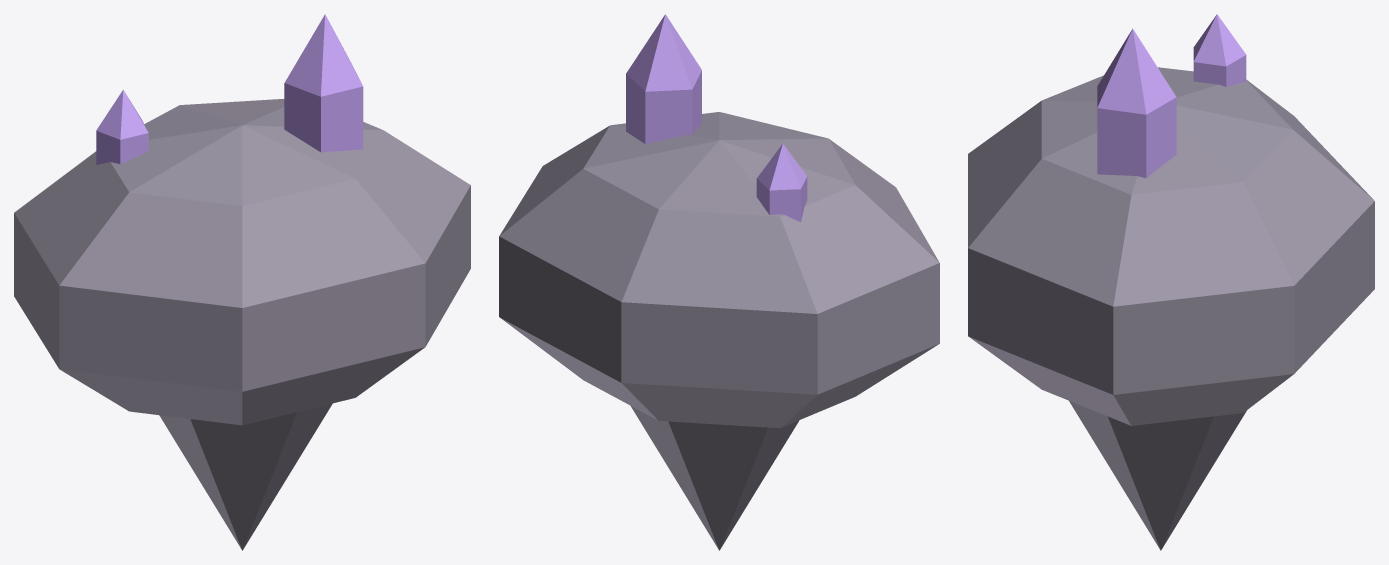
File: sh_rift_rock.glb
3 renders of one model, left to right at view 1: azimuth 30°, elevation 25°; view 2: azimuth 150°, elevation 25°; view 3: azimuth 270°, elevation 25°, orthographic. The views are drawn at different scales.
Parts seen in each view (by area): view 1: sh_rift_rock; view 2: sh_rift_rock; view 3: sh_rift_rock.
Part boxes in pixels (<box>): sh_rift_rock: <box>14,14,470,550</box>; sh_rift_rock: <box>499,14,939,550</box>; sh_rift_rock: <box>968,14,1374,550</box>.
Bounding box in the file's own units: 1.78 × 2.19 × 1.45.
